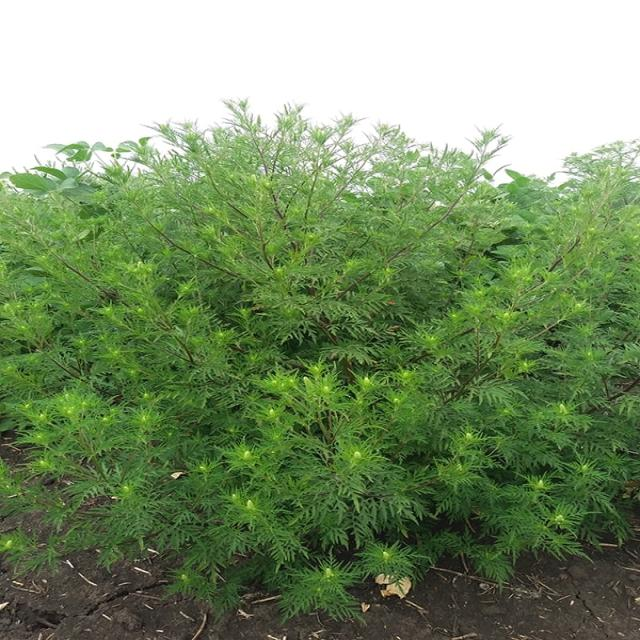ambrosia: (183, 119, 422, 327), (234, 355, 399, 598), (487, 359, 640, 612), (10, 328, 168, 539)
